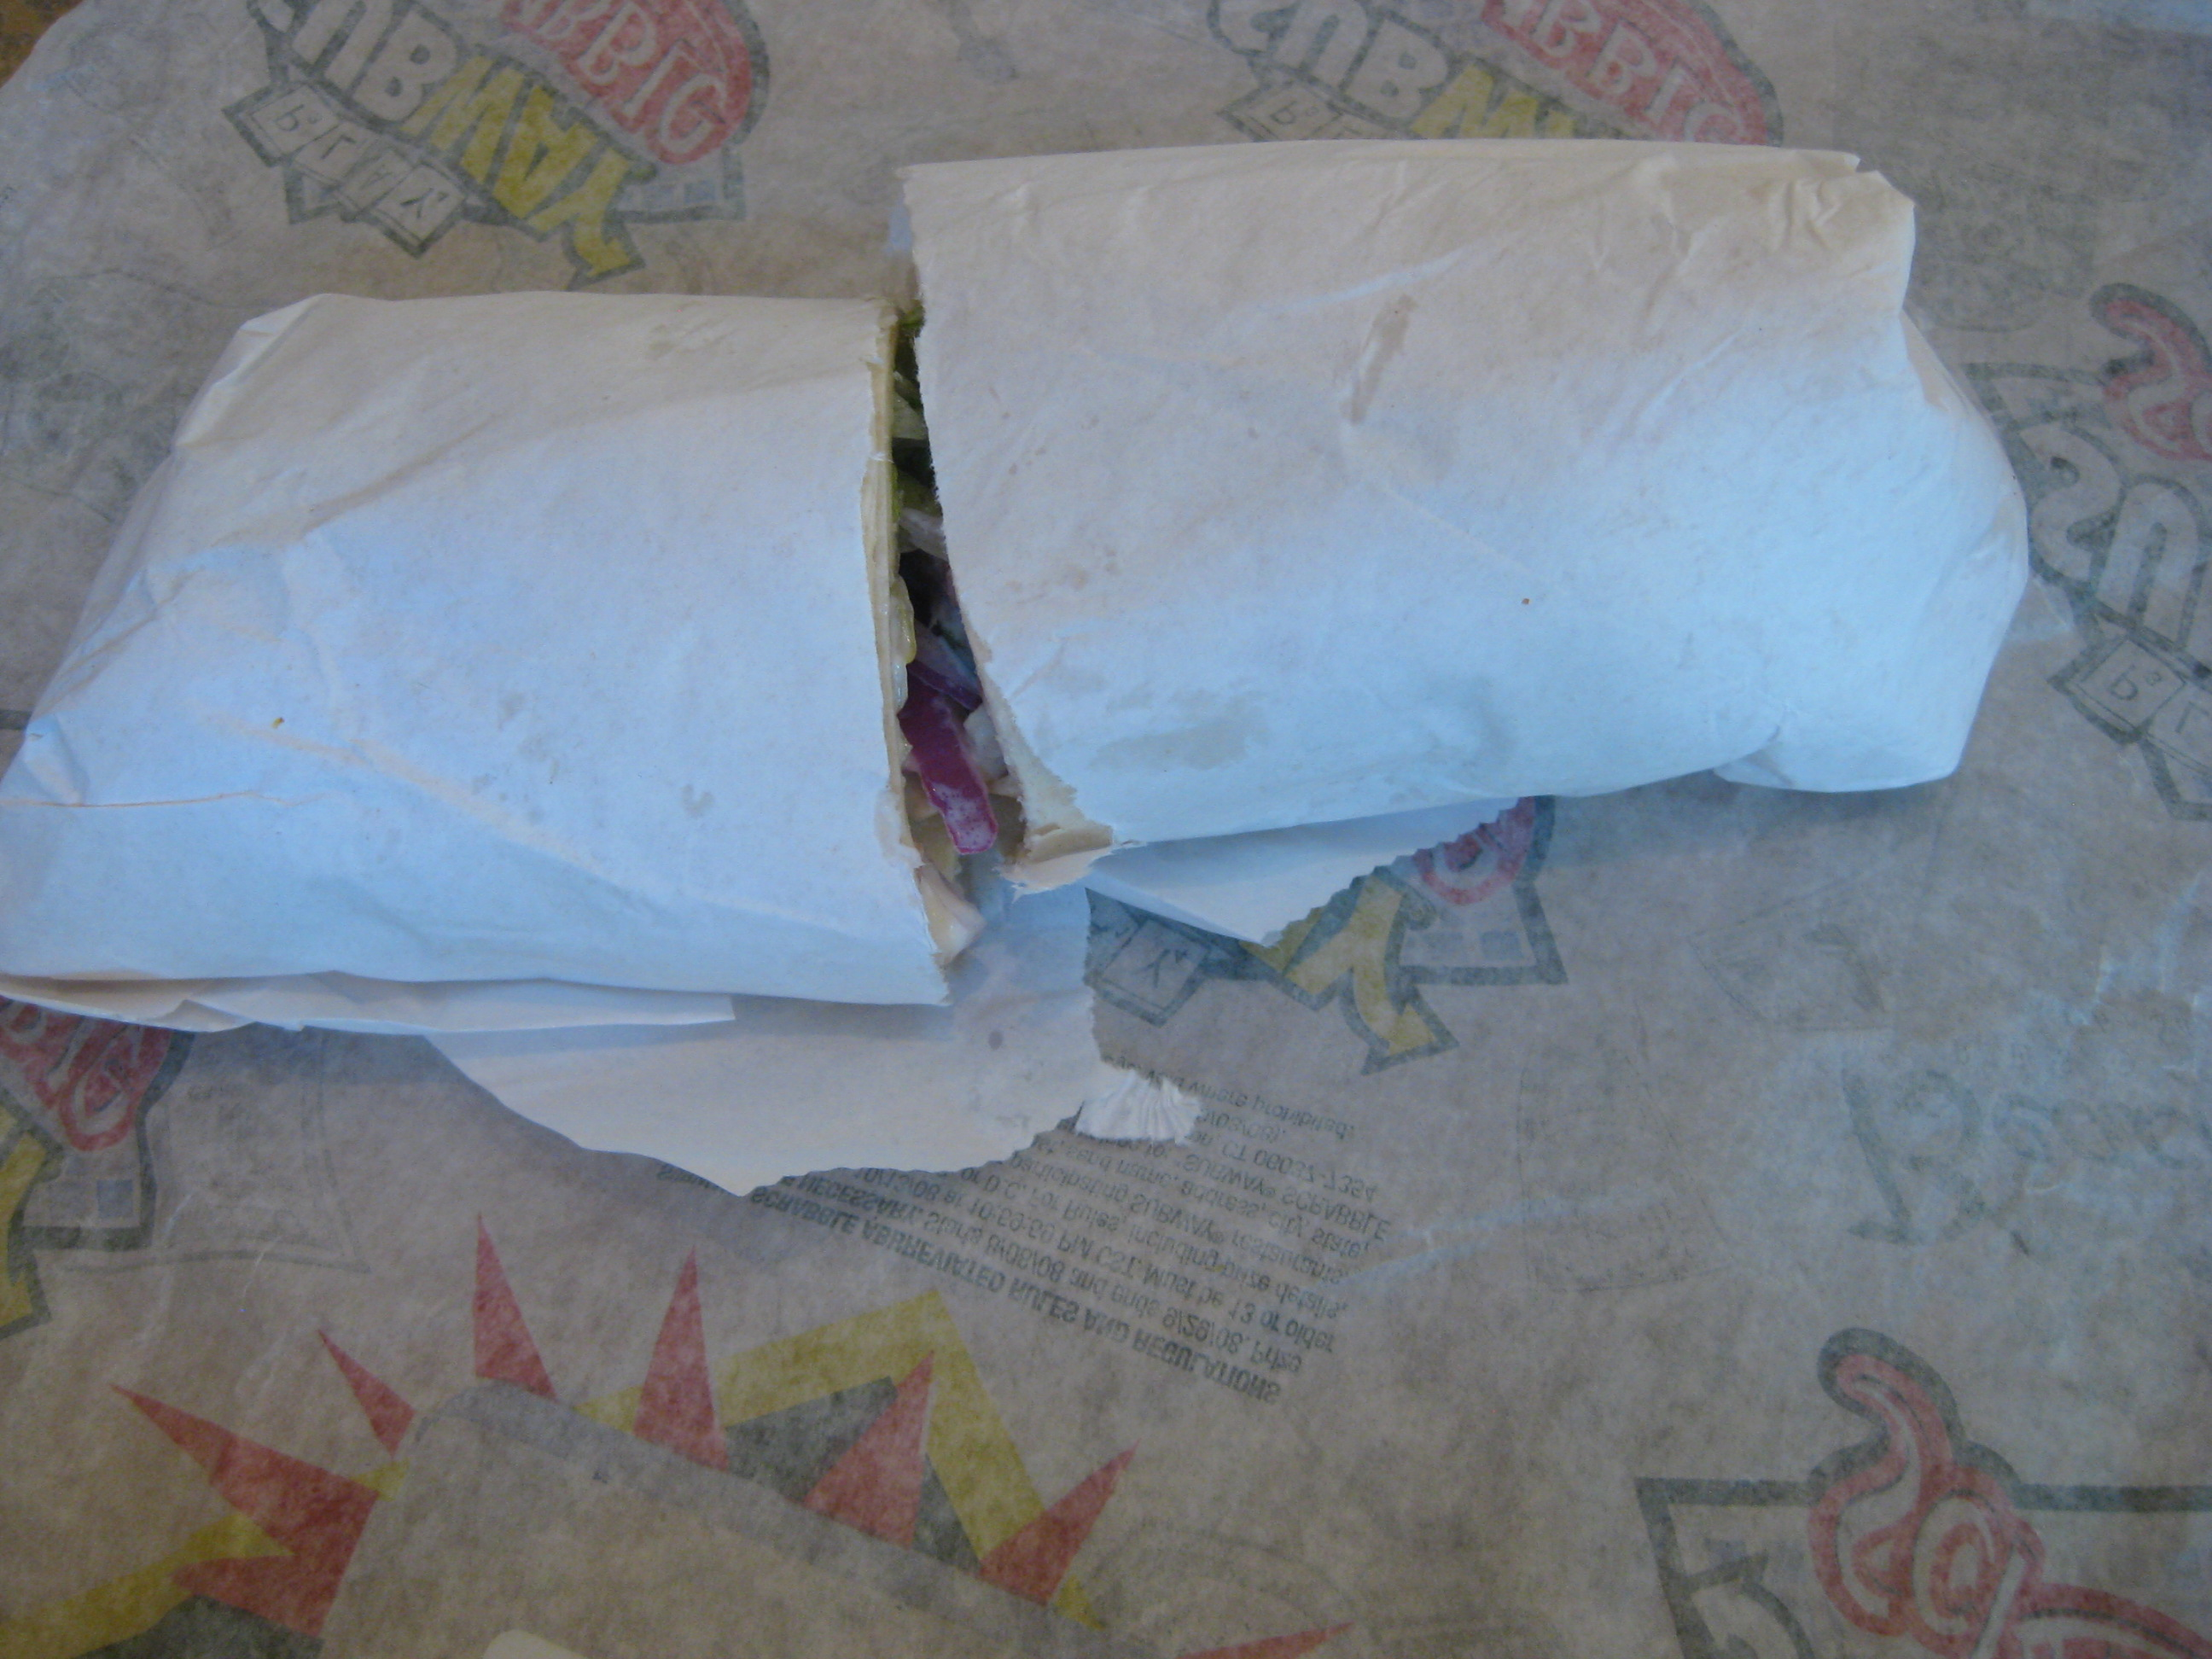burrito: (97, 112, 1997, 980)
